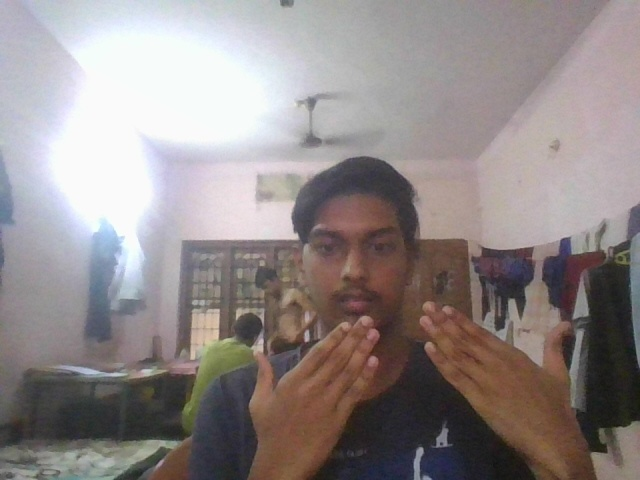thankyou: (246, 300, 579, 468)
